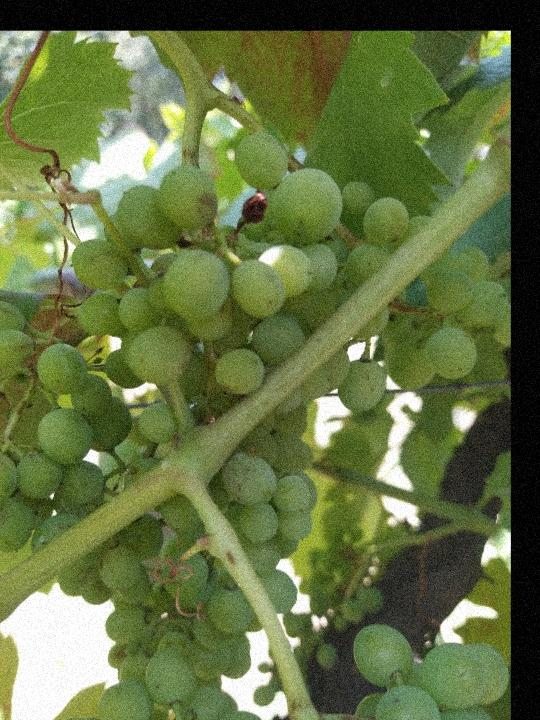grape: (0, 127, 503, 686)
